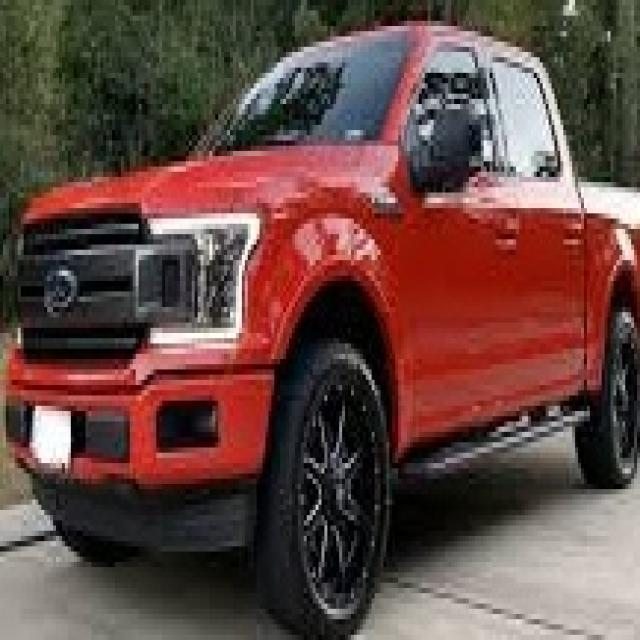red: (16, 23, 640, 513)
